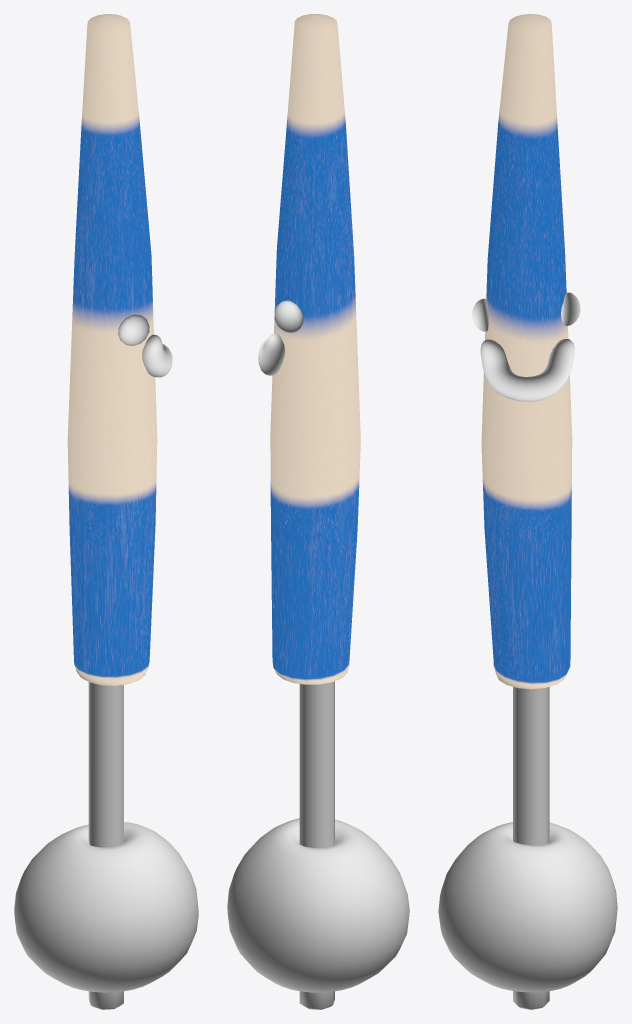
The model's file is KM_Umbrella01.fbx.
3 views of the same model, side by side, from view 1: azimuth 30°, elevation 25°; view 2: azimuth 150°, elevation 25°; view 3: azimuth 270°, elevation 25° (orthographic).
Visible parts, largest first — view 1: Umbrella, UmbrellaBody, UmbrellaFaceOpen; view 2: Umbrella, UmbrellaBody, UmbrellaFaceOpen; view 3: Umbrella, UmbrellaBody, UmbrellaFaceOpen.
Boxes of the visible parts, bbox=[...] form: Umbrella: bbox=[67, 14, 157, 1009]; UmbrellaBody: bbox=[14, 822, 198, 992]; UmbrellaFaceOpen: bbox=[118, 314, 172, 377]; Umbrella: bbox=[270, 14, 360, 1009]; UmbrellaBody: bbox=[227, 818, 409, 992]; UmbrellaFaceOpen: bbox=[258, 300, 303, 375]; Umbrella: bbox=[481, 14, 572, 1009]; UmbrellaBody: bbox=[438, 822, 617, 992]; UmbrellaFaceOpen: bbox=[472, 292, 580, 401].
Size of the model in its own units: 0.2552 by 1.5 by 0.2467.
